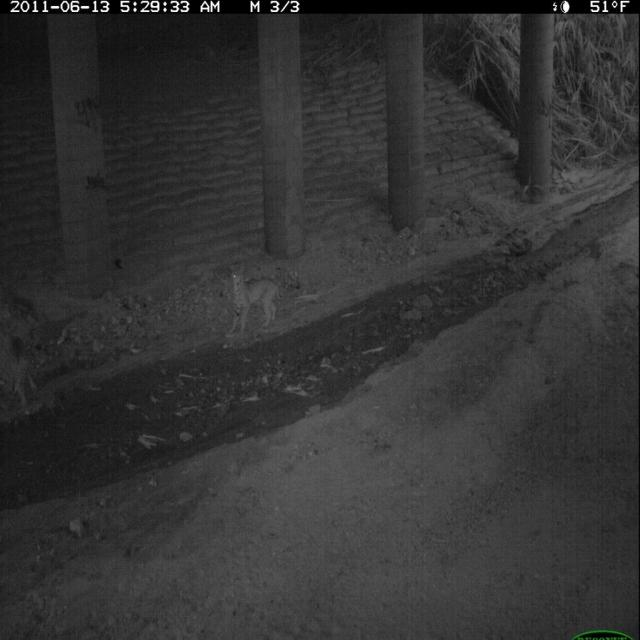bobcat: (227, 262, 286, 339), (4, 330, 41, 414)
